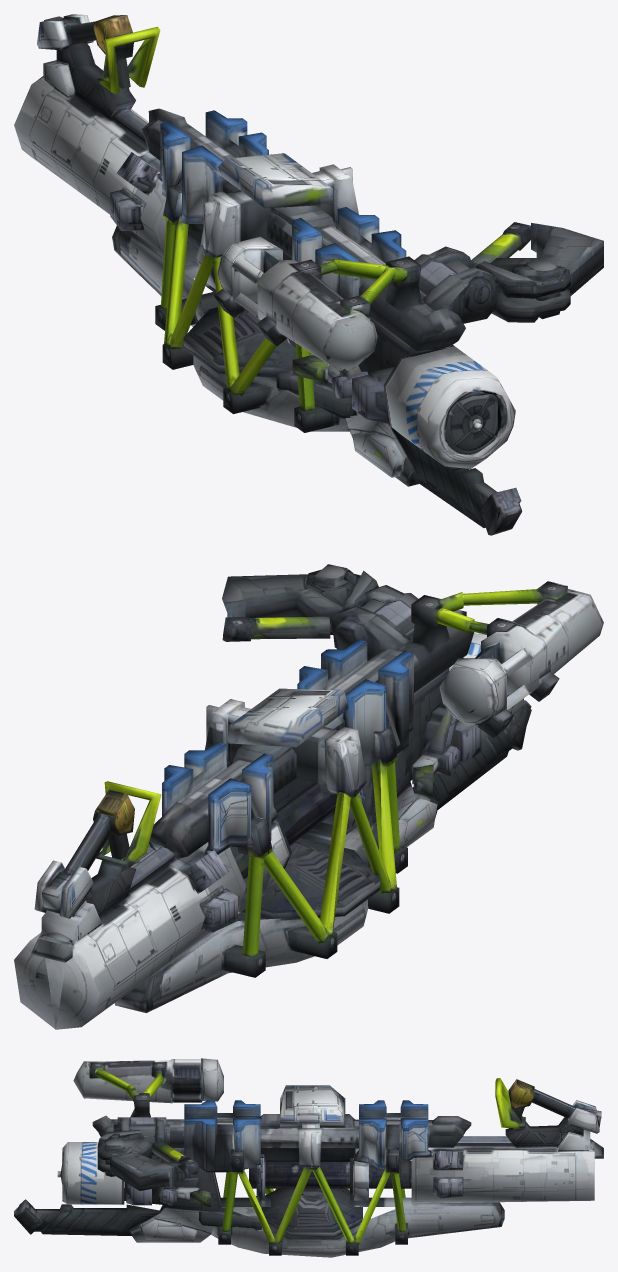
The picture shows the model from 3 angles, top to bottom: view 1: azimuth 30°, elevation 25°; view 2: azimuth 150°, elevation 25°; view 3: azimuth 270°, elevation 25°; orthographic projection. The views are drawn at different scales.
Parts seen in each view (by area): view 1: gun; view 2: gun; view 3: gun.
Part boxes in pixels (x1=…): gun: x1=14, y1=14, x2=603, y2=535; gun: x1=14, y1=564, x2=603, y2=1029; gun: x1=14, y1=1058, x2=603, y2=1257.
Size of the model in its own units: 1.07 by 0.7681 by 2.6.
Materials: 1 (1 with a texture image).
